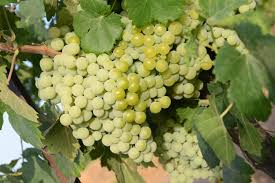Green grapes: (32, 35, 161, 161), (120, 13, 222, 105), (149, 106, 223, 183)
